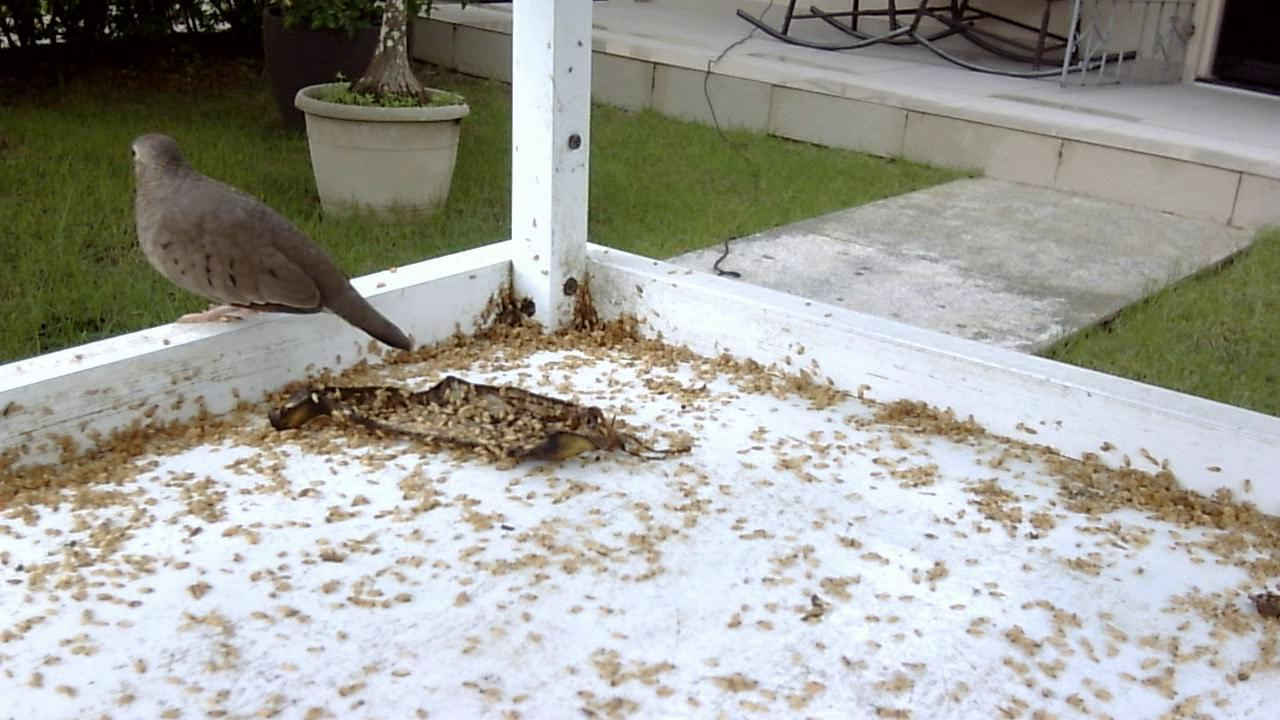rolinha: (119, 127, 413, 360)
